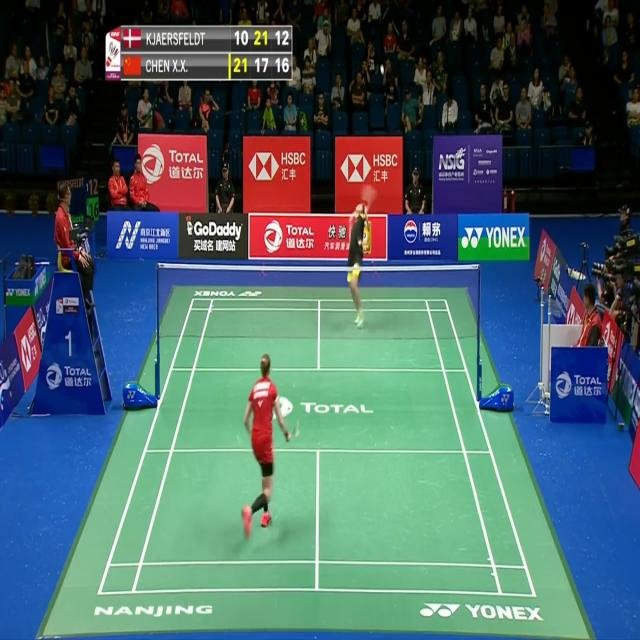Player1: (236, 342, 293, 545)
Player2: (344, 186, 374, 338)
